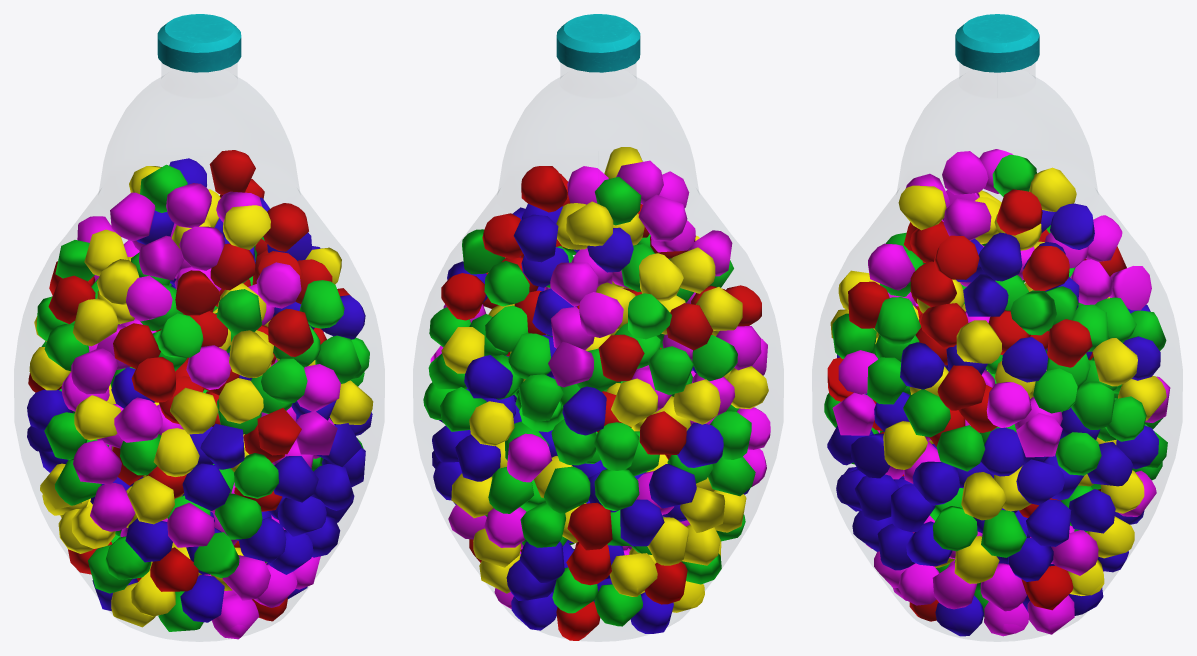
3 renders of one model, left to right at view 1: azimuth 30°, elevation 25°; view 2: azimuth 150°, elevation 25°; view 3: azimuth 270°, elevation 25°, orthographic.
Visible parts, largest first — view 1: Balls_305, Tapon; view 2: Balls_305, Tapon; view 3: Balls_305, Tapon.
Boxes of the visible parts, x1,y1,x2,y2 form: Balls_305: [27, 150, 373, 639]; Tapon: [157, 14, 241, 72]; Balls_305: [423, 147, 770, 640]; Tapon: [556, 14, 640, 72]; Balls_305: [824, 149, 1170, 636]; Tapon: [955, 14, 1039, 72].
Size of the model in its own units: 7.51 by 12.85 by 7.47.
